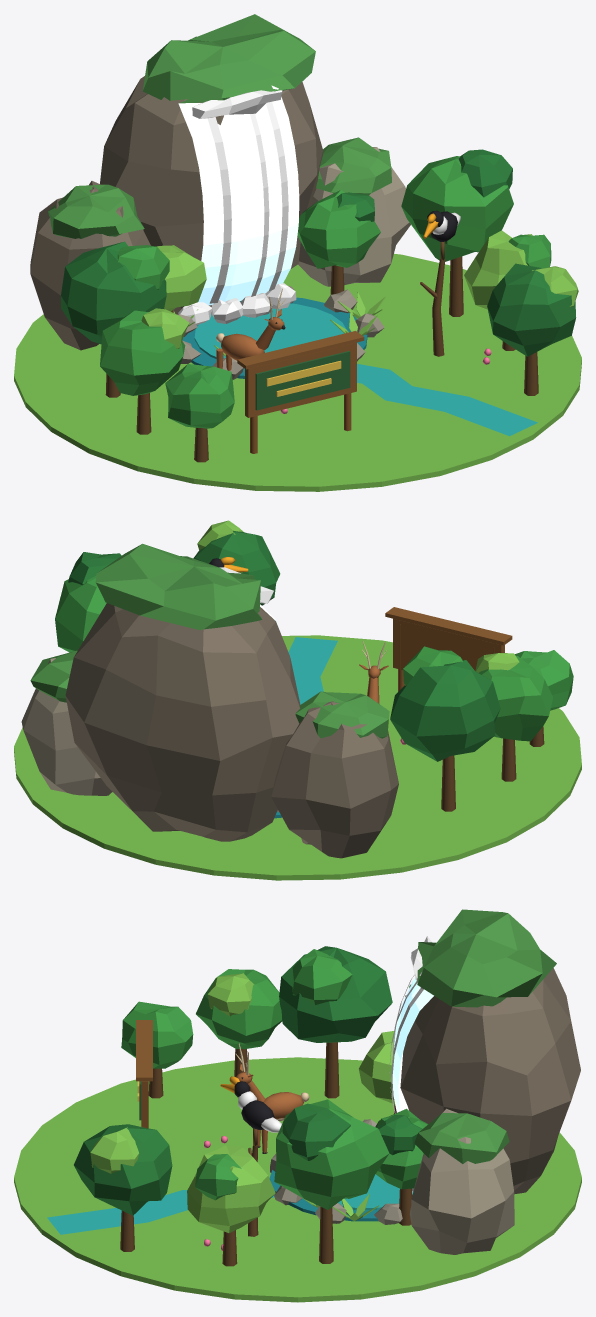
File: loc_khaoyai.glb
The picture shows the model from 3 angles, top to bottom: view 1: azimuth 30°, elevation 25°; view 2: azimuth 150°, elevation 25°; view 3: azimuth 270°, elevation 25°; orthographic projection.
Visible parts, largest first — view 1: Body_Grass, Body_Leaf, Body_Cliff, Body_Moss, Body_Falls, Body_Leaf2, Body_Pool, Body_Foam, Body_Leaf3, Body_CliffLight, Body_Wood, Body_Trunk (+5 smaller); view 2: Body_Cliff, Body_Grass, Body_Moss, Body_Leaf2, Body_Leaf, Body_CliffLight, Body_Wood, Body_Pool, Body_Trunk, Body_Leaf3; view 3: Body_Grass, Body_Cliff, Body_Leaf, Body_Leaf2, Body_Moss, Body_Leaf3, Body_CliffLight, Body_Trunk, Body_Pool, Body_Falls, Body_Wood, Body_Stone (+4 smaller).
Part boxes in pixels (x1,y1,x2,y2): Body_Grass: (14, 253, 581, 491); Body_Leaf: (100, 156, 551, 428); Body_Cliff: (30, 76, 323, 350); Body_Moss: (48, 14, 391, 238); Body_Falls: (178, 97, 299, 305); Body_Leaf2: (61, 149, 576, 356); Body_Pool: (194, 303, 537, 436); Body_Foam: (178, 85, 296, 325); Body_Leaf3: (141, 230, 578, 356); Body_CliffLight: (298, 147, 410, 286); Body_Wood: (237, 331, 364, 453); Body_Trunk: (105, 241, 538, 462); Body_Cliff: (65, 603, 398, 858); Body_Grass: (14, 635, 581, 880); Body_Moss: (30, 543, 389, 738); Body_Leaf2: (68, 530, 500, 761); Body_Leaf: (55, 576, 573, 741); Body_CliffLight: (21, 658, 112, 795); Body_Wood: (385, 607, 512, 691); Body_Pool: (288, 637, 337, 704); Body_Trunk: (441, 726, 544, 811); Body_Leaf3: (197, 520, 519, 672); Body_Grass: (14, 1057, 581, 1302); Body_Cliff: (400, 968, 580, 1194); Body_Leaf: (121, 949, 428, 1209); Body_Leaf2: (74, 946, 422, 1215); Body_Moss: (409, 909, 556, 1163); Body_Leaf3: (90, 973, 403, 1232); Body_CliffLight: (409, 1108, 514, 1254); Body_Trunk: (120, 1042, 412, 1266); Body_Pool: (47, 1174, 412, 1234); Body_Falls: (392, 978, 433, 1112); Body_Wood: (136, 1020, 152, 1128); Body_Stone: (270, 1119, 402, 1224).
Size of the model in its own units: 10 by 5.17 by 10.
